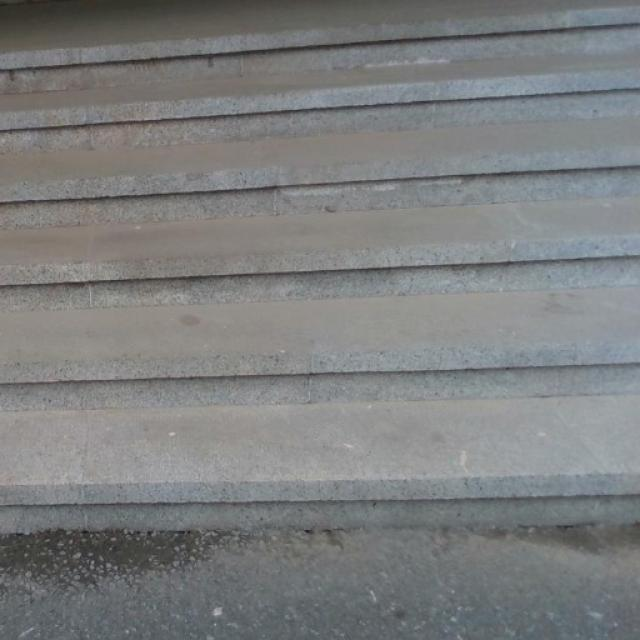Stairs: (0, 0, 639, 532)
